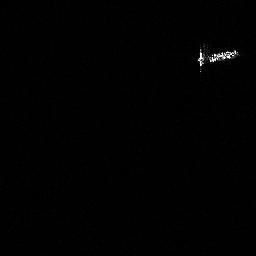ship: (195, 44, 240, 75)
